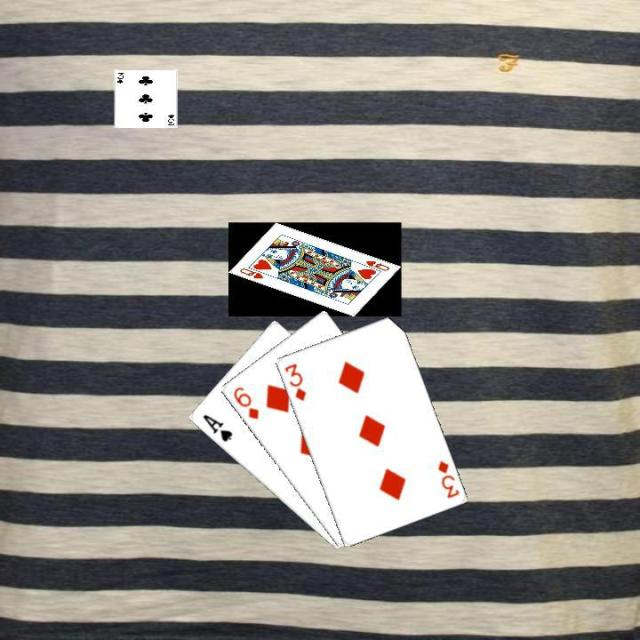3D: (280, 359, 308, 403), (433, 456, 460, 500)
6D: (230, 383, 260, 421)
AS: (198, 411, 234, 444)
